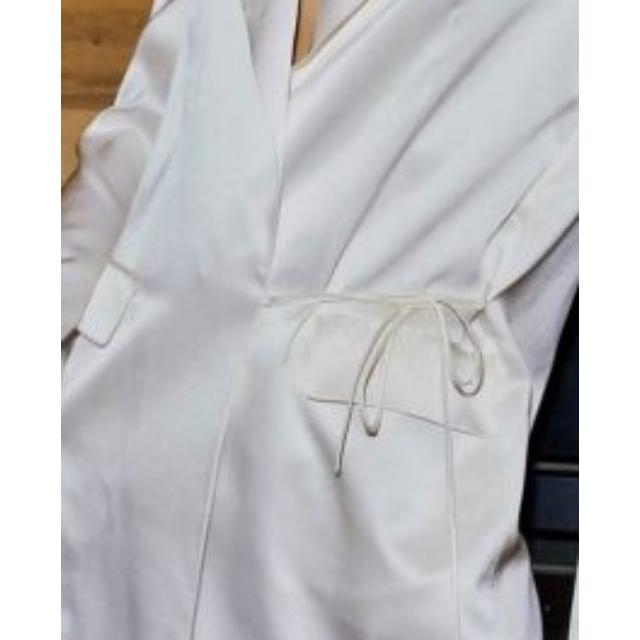silk: (61, 0, 579, 640)
